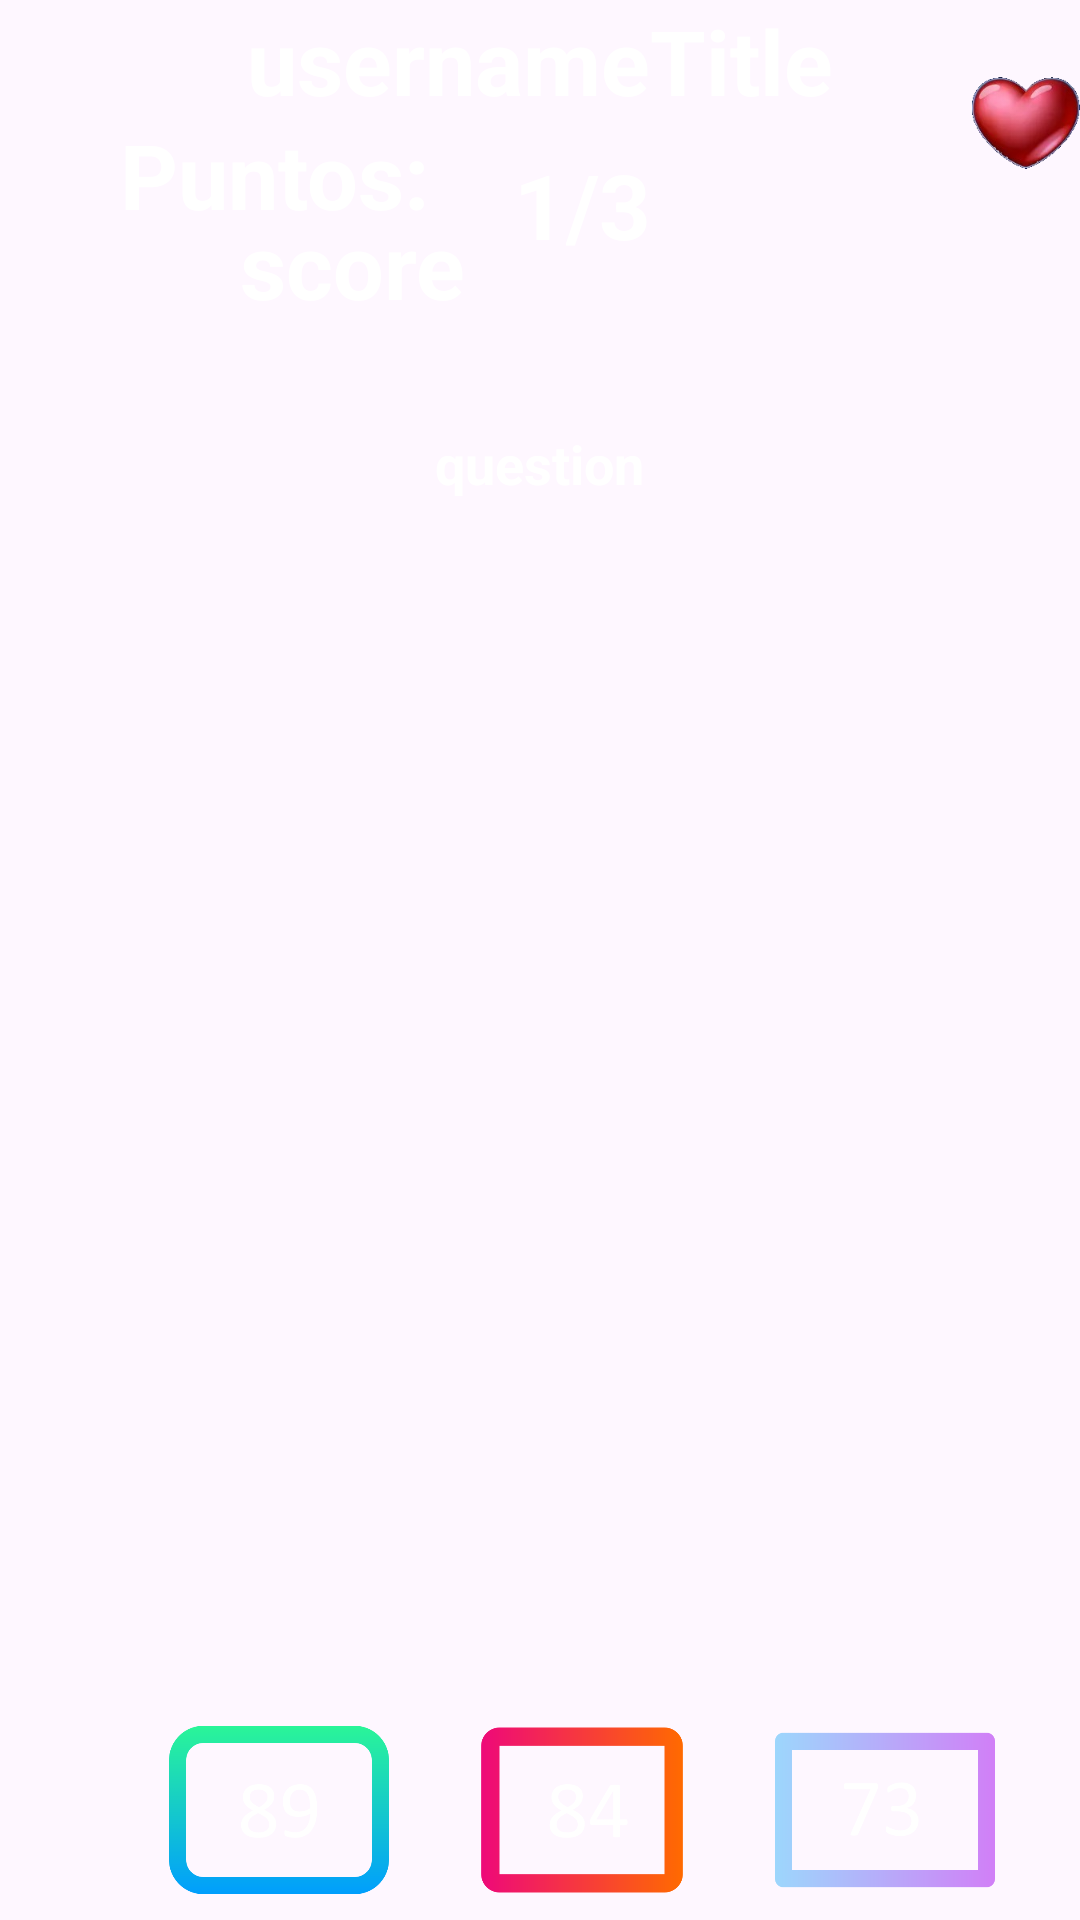

Screen size 1080px×1920px. Icon name, then its box in pixels as detection(x1, y1, x2, y2):
life: detection(972, 77, 1080, 169)
